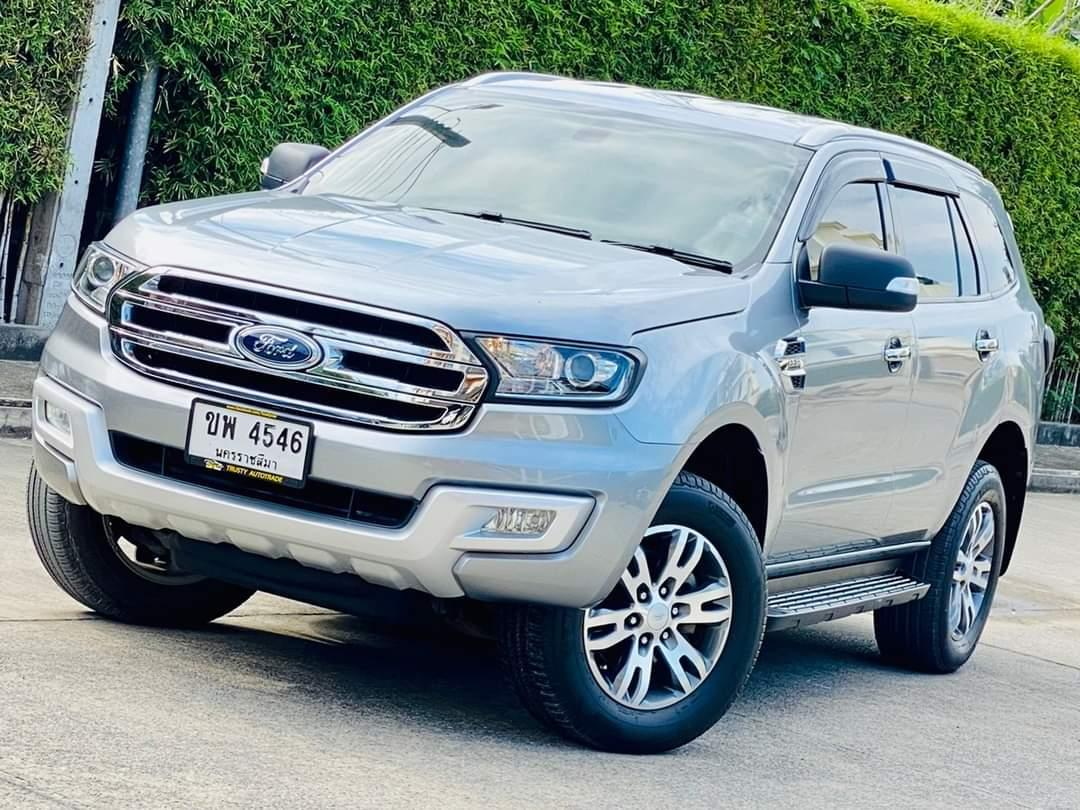license-plate: (182, 394, 318, 498)
